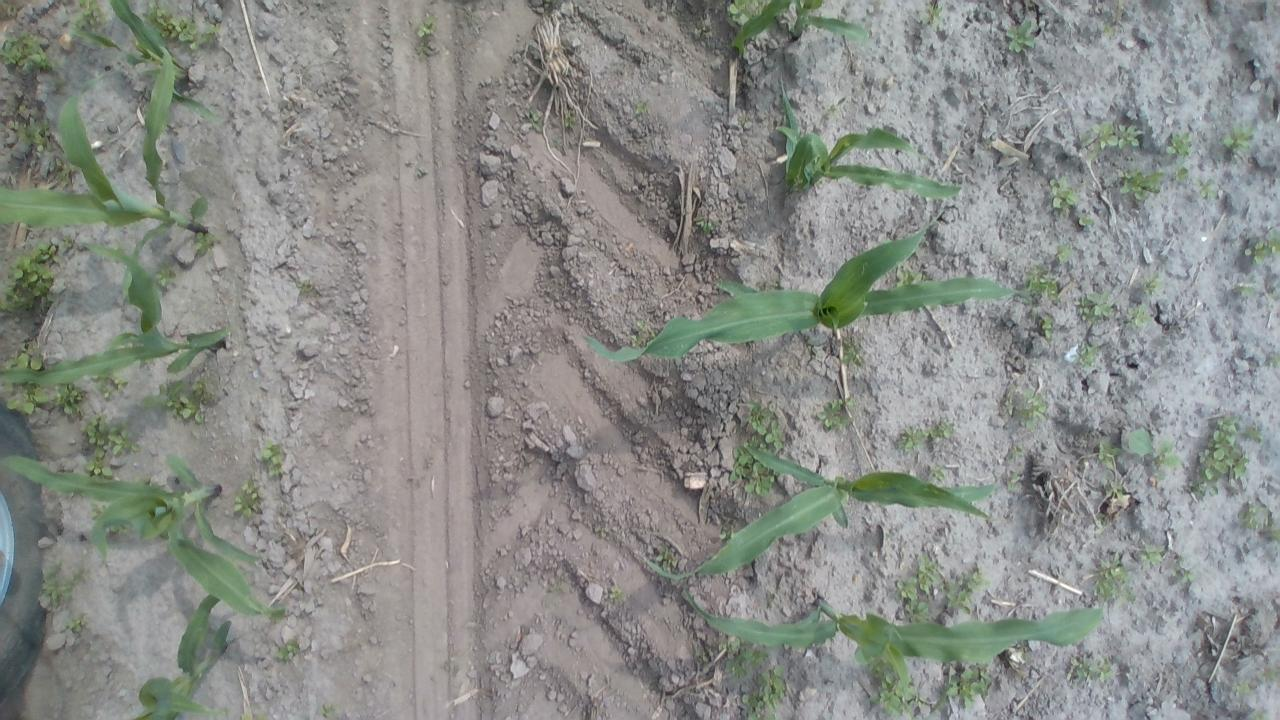Maize: (580, 221, 1035, 365), (0, 45, 210, 297), (0, 454, 287, 624), (646, 444, 998, 581), (679, 582, 1107, 683), (0, 241, 233, 388), (777, 80, 959, 198), (70, 1, 222, 125), (130, 592, 232, 720), (731, 0, 870, 52)
Weeds: (1, 237, 62, 316), (1196, 414, 1248, 497), (80, 414, 138, 477), (143, 4, 219, 52), (866, 662, 924, 718), (140, 382, 213, 424), (1124, 428, 1181, 481), (740, 665, 789, 720), (1084, 552, 1136, 603), (733, 402, 784, 454), (0, 31, 54, 74), (898, 418, 954, 454), (728, 454, 776, 496), (946, 666, 994, 708), (944, 570, 990, 613), (720, 639, 767, 677), (1080, 121, 1141, 150), (1, 384, 51, 419), (1118, 166, 1164, 203), (43, 561, 81, 605), (1237, 502, 1280, 540), (896, 579, 930, 624), (816, 395, 856, 432), (908, 554, 944, 592), (232, 477, 264, 518), (1074, 290, 1114, 322), (1018, 389, 1049, 430), (1245, 229, 1280, 264), (1070, 654, 1112, 682), (1026, 266, 1060, 299), (52, 382, 84, 417), (1048, 176, 1079, 212), (70, 1, 108, 30), (1006, 18, 1036, 54), (1220, 122, 1252, 154), (728, 0, 764, 25), (892, 264, 929, 288), (262, 439, 286, 475), (94, 374, 130, 397), (4, 351, 44, 371), (415, 17, 436, 53), (20, 121, 48, 148), (632, 319, 658, 348), (1172, 554, 1196, 584), (1166, 131, 1193, 157), (276, 636, 302, 662), (1075, 342, 1101, 367), (1140, 270, 1164, 296), (1126, 304, 1152, 328), (1098, 439, 1119, 468), (192, 231, 216, 256), (656, 546, 680, 571), (840, 338, 861, 366), (1141, 544, 1166, 567), (1052, 240, 1075, 264), (693, 643, 715, 668), (921, 1, 943, 25), (156, 262, 177, 286), (523, 110, 543, 134), (694, 216, 720, 233), (1197, 180, 1217, 202), (64, 614, 86, 634), (1105, 480, 1124, 501), (1235, 279, 1254, 299), (929, 464, 949, 483), (1246, 423, 1264, 444), (1234, 679, 1254, 697), (1039, 316, 1054, 340), (1008, 442, 1026, 461), (59, 162, 74, 184), (1004, 471, 1020, 491), (1260, 667, 1280, 683), (1173, 166, 1190, 184), (237, 711, 271, 720), (607, 584, 624, 602), (548, 135, 565, 152), (296, 278, 314, 294), (89, 503, 106, 519), (320, 703, 338, 718), (719, 527, 735, 543), (1078, 212, 1094, 228), (1246, 709, 1269, 720), (1100, 22, 1116, 37), (594, 525, 609, 540), (546, 582, 562, 596), (413, 167, 428, 180), (636, 100, 648, 116), (1268, 352, 1280, 368), (563, 114, 576, 128), (110, 524, 128, 534), (828, 103, 838, 115), (738, 114, 748, 126)
